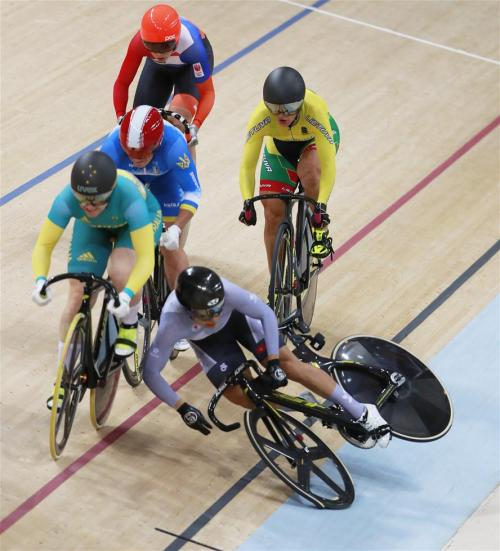fall: (142, 262, 398, 453)
